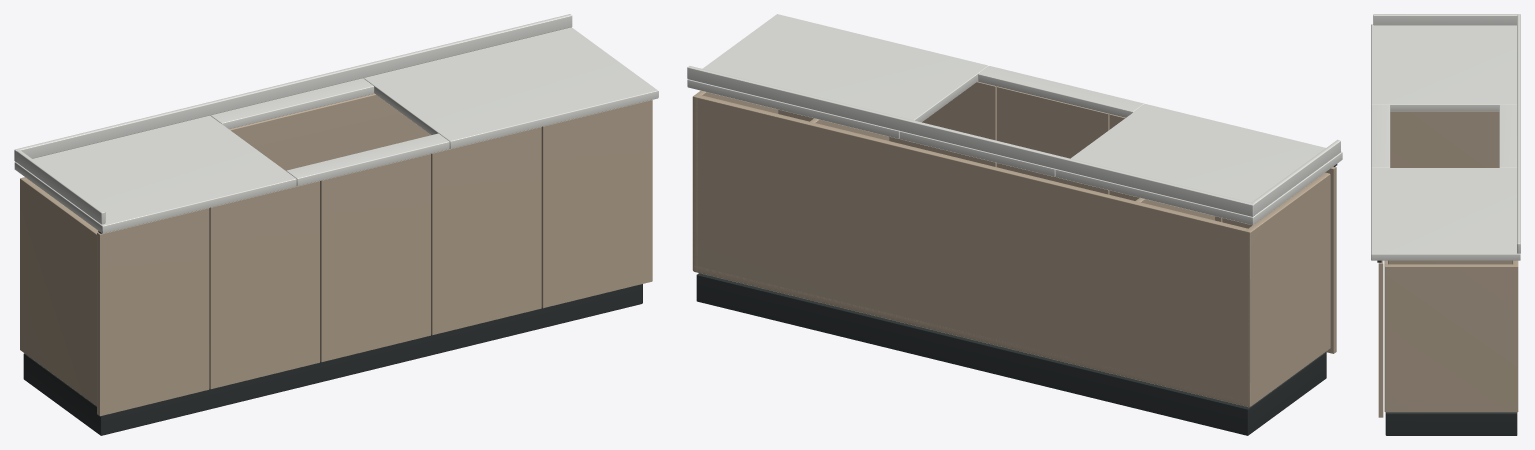
3 views of the same model, side by side, from view 1: azimuth 30°, elevation 25°; view 2: azimuth 150°, elevation 25°; view 3: azimuth 270°, elevation 25° (orthographic). The views are drawn at different scales.
Parts seen in each view (by area): view 1: Cabinet bottom, White worktop left, Cabinet dark recessed plinth; view 2: Cabinet bottom, White worktop left, Cabinet dark recessed plinth; view 3: White worktop left, Cabinet bottom, Cabinet dark recessed plinth.
Part boxes in pixels (<box>): Cabinet bottom: <box>20,93,652,416</box>; White worktop left: <box>14,14,658,233</box>; Cabinet dark recessed plinth: <box>23,231,642,435</box>; Cabinet bottom: <box>692,81,1336,407</box>; White worktop left: <box>687,14,1342,225</box>; Cabinet dark recessed plinth: <box>696,164,1337,435</box>; White worktop left: <box>1371,14,1520,260</box>; Cabinet bottom: <box>1378,111,1518,417</box>; Cabinet dark recessed plinth: <box>1377,260,1517,435</box>.
Bounding box in the file's own units: 2.4 × 0.95 × 0.661.
